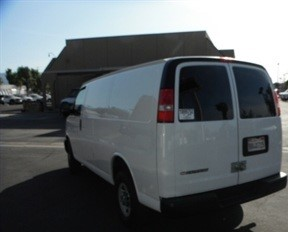vehicle_away: (64, 54, 288, 221)
